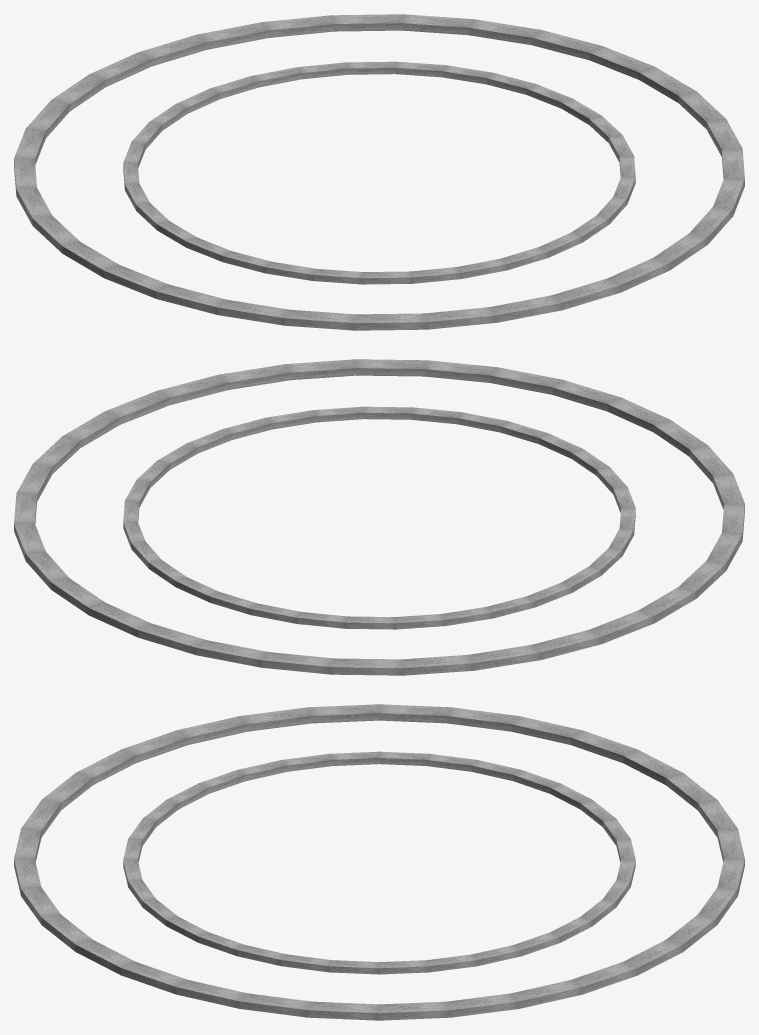
File: track_walls.obj
3 views of the same model, one above another, from view 1: azimuth 30°, elevation 25°; view 2: azimuth 150°, elevation 25°; view 3: azimuth 270°, elevation 25° (orthographic).
Visible parts, largest first — view 1: Circle.000_Circle.006, Circle.002_Circle.007; view 2: Circle.000_Circle.006, Circle.002_Circle.007; view 3: Circle.000_Circle.006, Circle.002_Circle.007.
Part boxes in pixels (bbox=[...]): Circle.000_Circle.006: bbox=[14, 14, 744, 330]; Circle.002_Circle.007: bbox=[123, 61, 635, 284]; Circle.000_Circle.006: bbox=[14, 359, 744, 675]; Circle.002_Circle.007: bbox=[123, 406, 635, 629]; Circle.000_Circle.006: bbox=[14, 704, 744, 1020]; Circle.002_Circle.007: bbox=[123, 751, 635, 974].
Size of the model in its own units: 106 by 1.2 by 106.
Materials: 2 (2 with a texture image).
